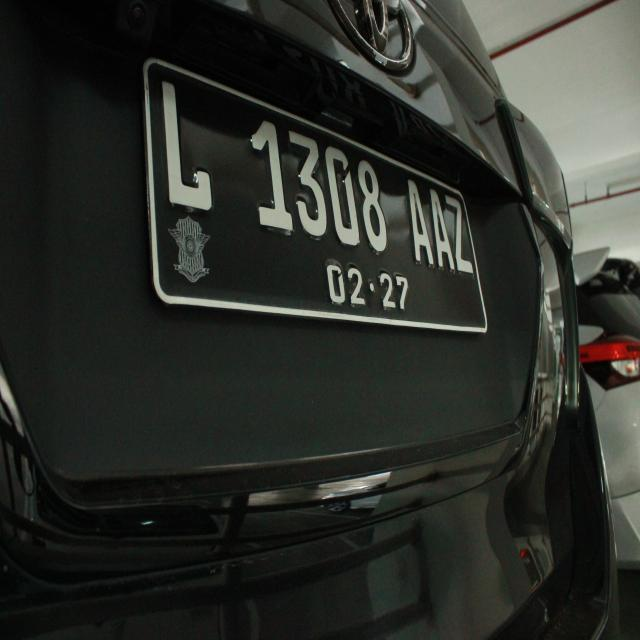0: (321, 138, 362, 250)
1: (246, 103, 296, 239)
3: (286, 116, 328, 248)
8: (356, 142, 392, 258)
A: (421, 176, 463, 288), (407, 168, 435, 268)
L: (150, 64, 220, 220)
Z: (444, 180, 479, 286)
